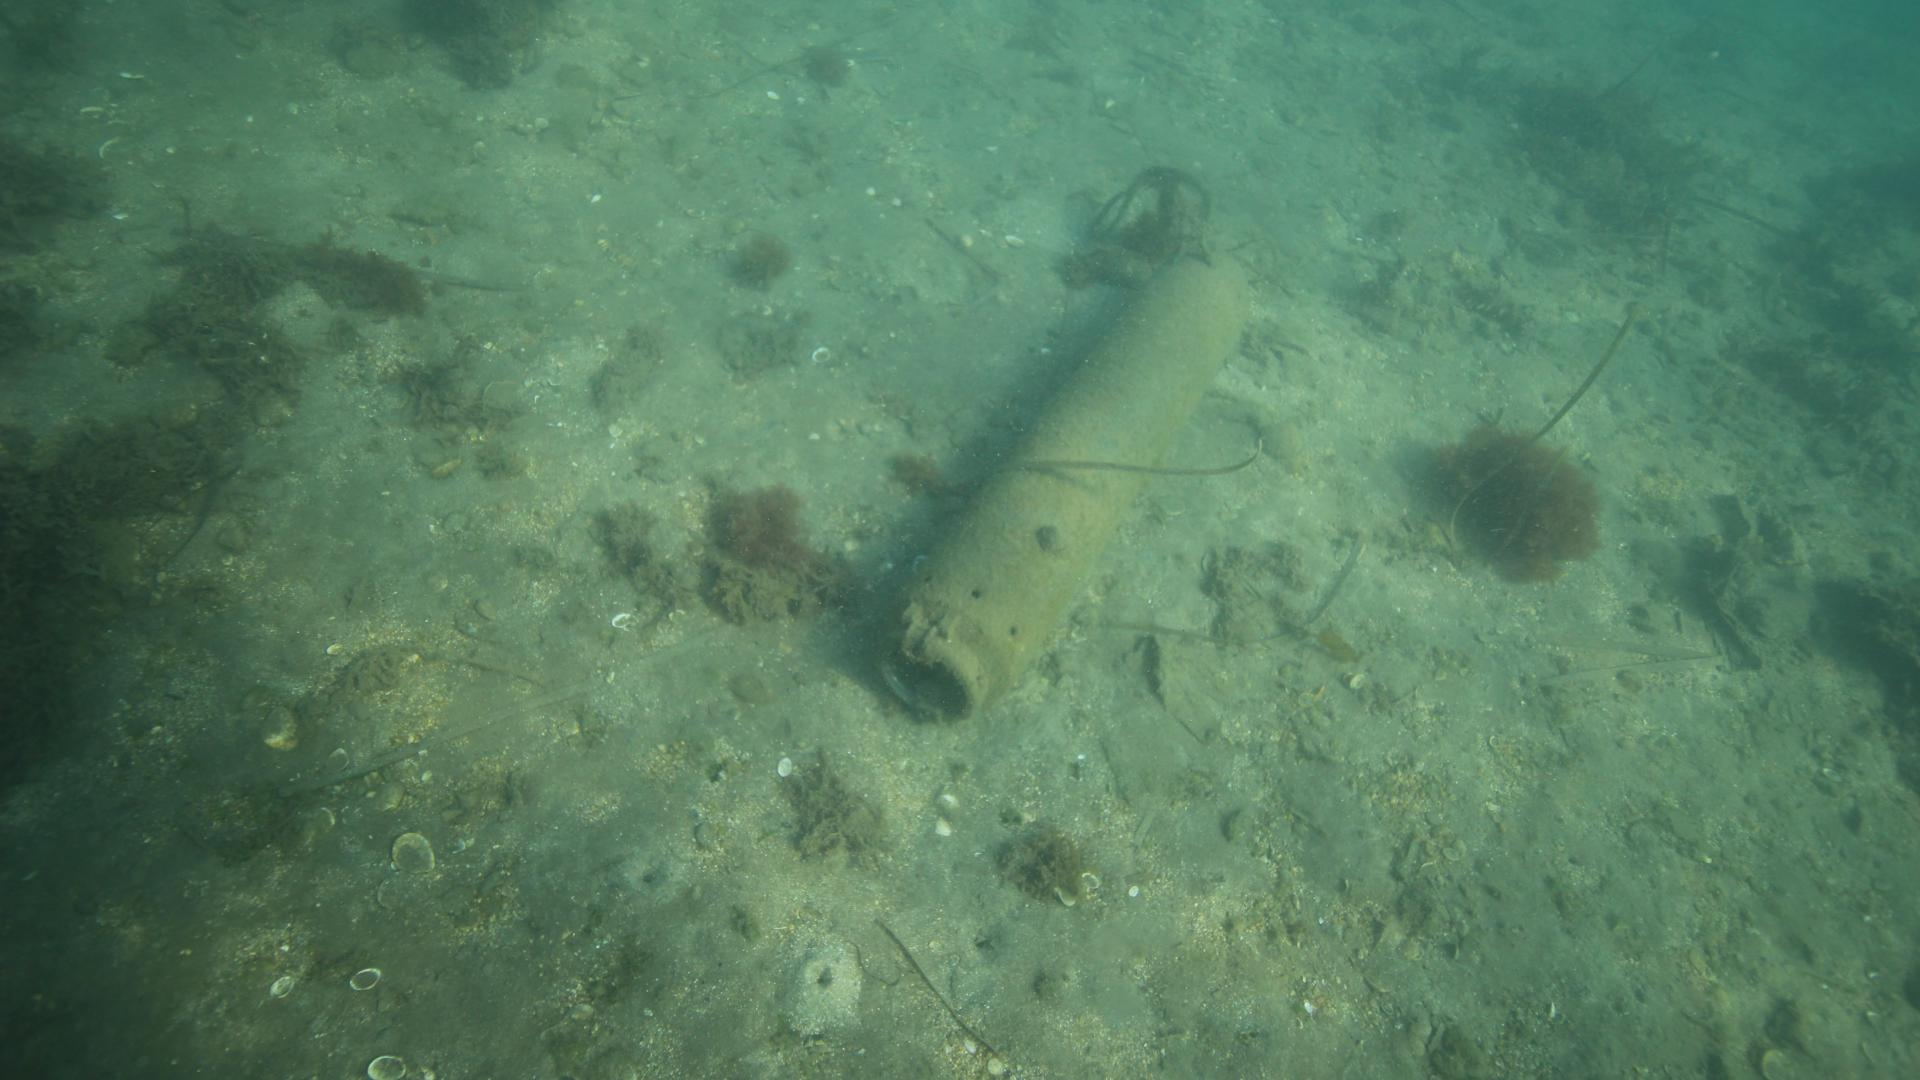bundle of ropes: (1085, 160, 1218, 269)
eel fish trap: (876, 251, 1253, 729)
